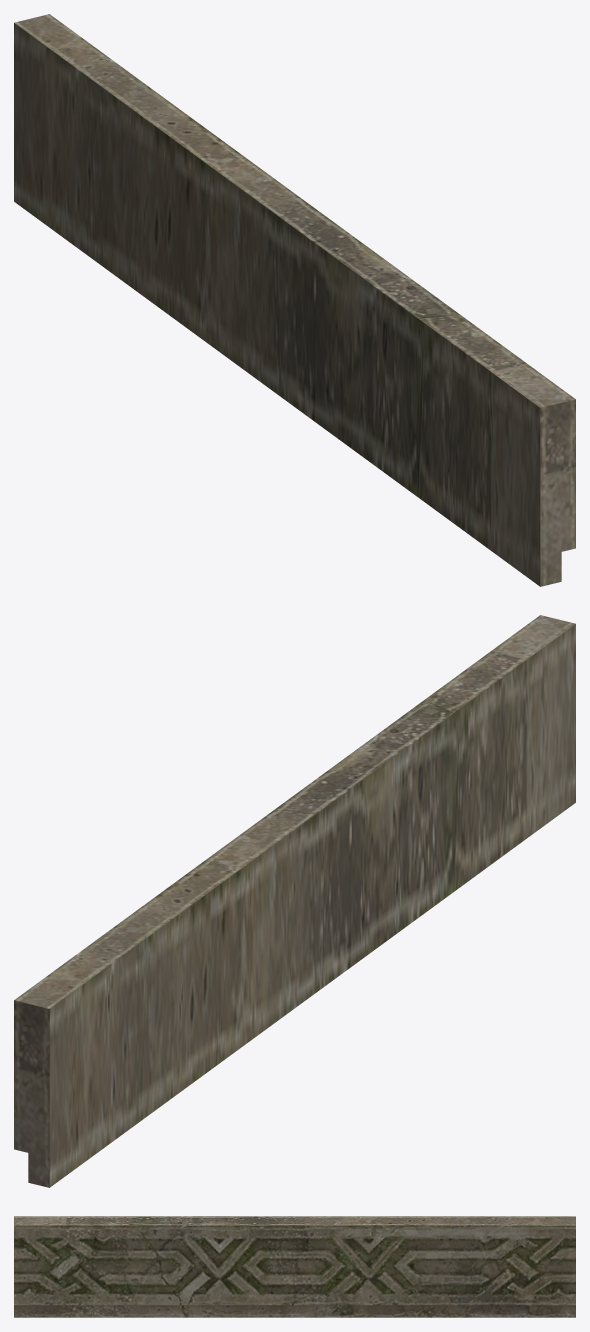
File: bg_lut_lutomb_deco01_sm_old.FBX
3 views of the same model, one above another, from view 1: azimuth 30°, elevation 25°; view 2: azimuth 150°, elevation 25°; view 3: azimuth 270°, elevation 25° (orthographic). The views are drawn at different scales.
Parts seen in each view (by area): view 1: bg_lut_lutomb_deco01_sm_old; view 2: bg_lut_lutomb_deco01_sm_old; view 3: bg_lut_lutomb_deco01_sm_old.
Part boxes in pixels (box(x1,y1,x2,y2)): bg_lut_lutomb_deco01_sm_old: box(14, 14, 575, 586); bg_lut_lutomb_deco01_sm_old: box(14, 615, 575, 1187); bg_lut_lutomb_deco01_sm_old: box(14, 1216, 575, 1317).
Size of the model in its own units: 10 by 48 by 256.
